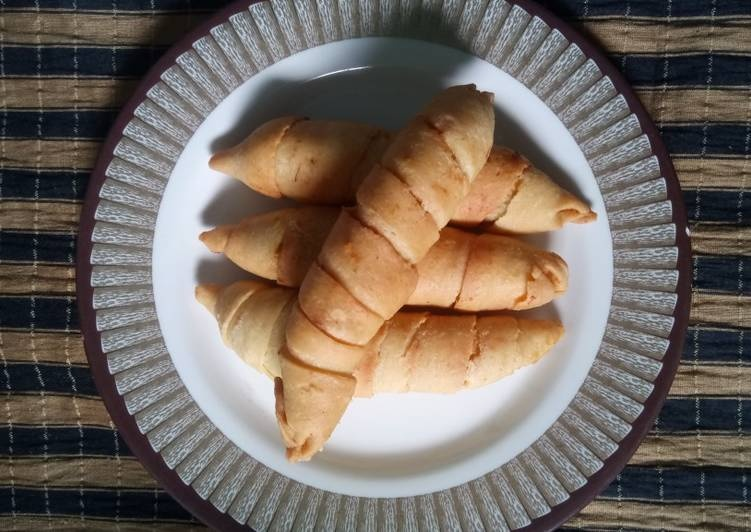pisang_molen: (271, 86, 496, 463)
